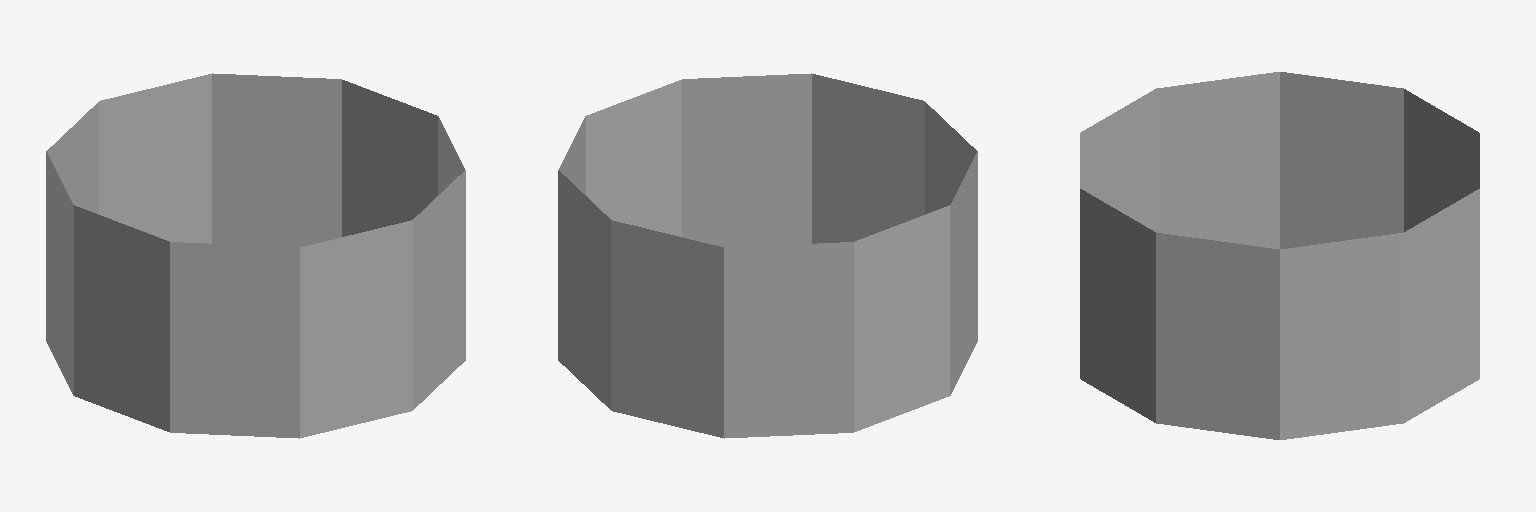
File: connection5.obj
The picture shows the model from 3 angles: view 1: azimuth 30°, elevation 25°; view 2: azimuth 150°, elevation 25°; view 3: azimuth 270°, elevation 25°; orthographic projection.
Parts seen in each view (by area): view 1: pCylinder3; view 2: pCylinder3; view 3: pCylinder3.
Boxes of the visible parts, x1,y1,x2,y2 form: pCylinder3: [46, 73, 465, 438]; pCylinder3: [558, 73, 977, 438]; pCylinder3: [1080, 72, 1479, 439].
Size of the model in its own units: 2 by 1 by 1.9.